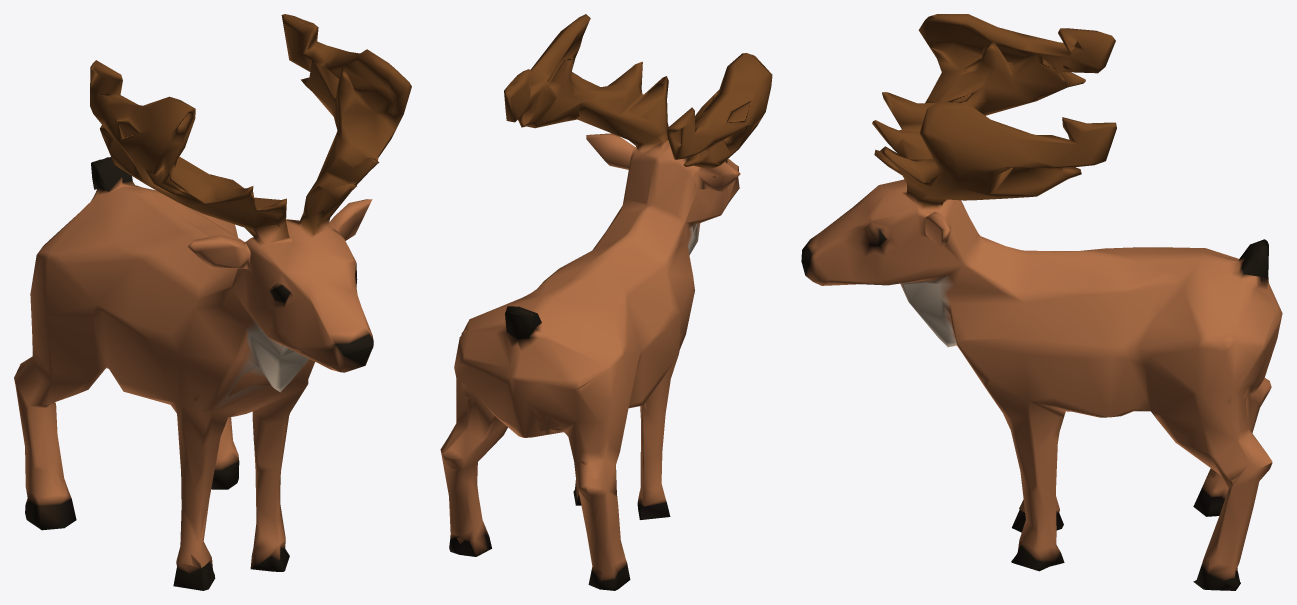
File: gen3d-reindeer-lod0.glb
3 views of the same model, side by side, from view 1: azimuth 30°, elevation 25°; view 2: azimuth 150°, elevation 25°; view 3: azimuth 270°, elevation 25° (orthographic). The views are drawn at different scales.
Parts seen in each view (by area): view 1: part_0; view 2: part_0; view 3: part_0.
Boxes of the visible parts, left/top/right/bottom form: part_0: left=14, top=14, right=411, bottom=590; part_0: left=440, top=14, right=772, bottom=590; part_0: left=801, top=14, right=1282, bottom=590.
Bounding box in the file's own units: 0.5186 × 0.9993 × 0.891.
